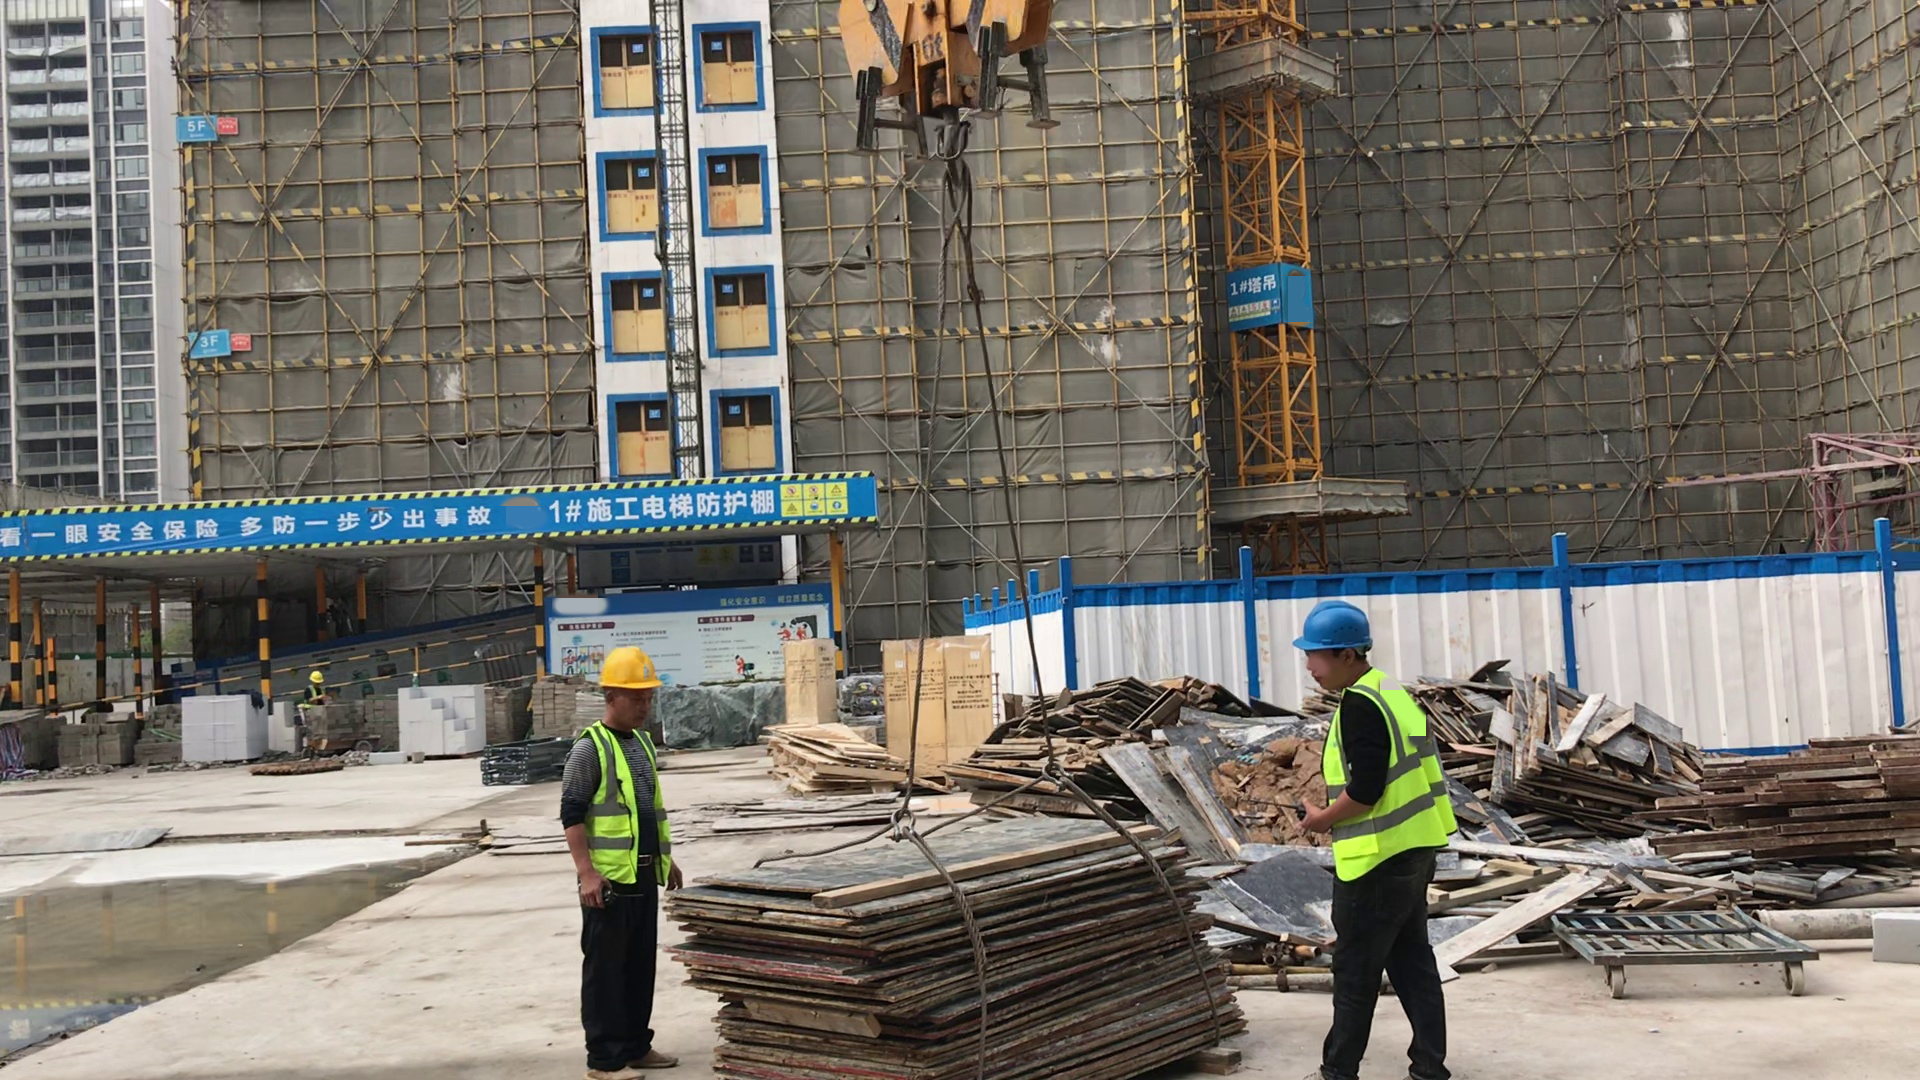board: (674, 816, 1249, 1080)
brick: (178, 693, 297, 760), (399, 684, 487, 756)
helmet: (1293, 604, 1376, 654), (599, 645, 662, 692), (309, 669, 324, 683)
hook: (837, 2, 1069, 191)
person: (1286, 606, 1456, 1080), (560, 645, 691, 1080), (301, 668, 326, 704)
slogan: (3, 494, 495, 554), (775, 480, 856, 517), (1227, 273, 1281, 325)
vest: (1316, 668, 1456, 879), (568, 720, 670, 890), (308, 686, 323, 701)
